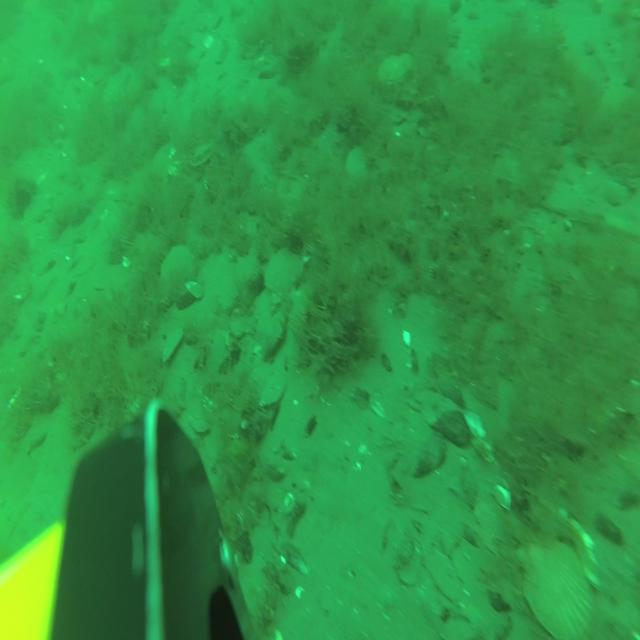scallop: (516, 532, 596, 640), (263, 245, 304, 306), (160, 241, 199, 304), (378, 48, 417, 90), (344, 140, 374, 184), (188, 135, 222, 173)
